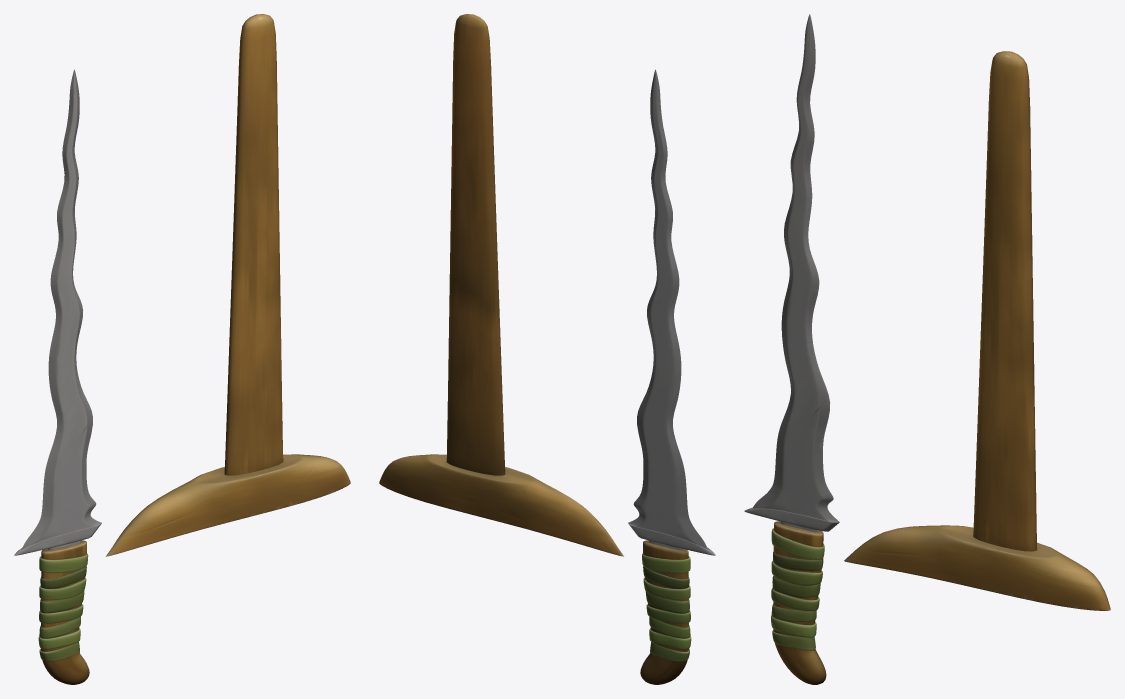
File: keris.glb
The picture shows the model from 3 angles, left to right: view 1: azimuth 30°, elevation 25°; view 2: azimuth 150°, elevation 25°; view 3: azimuth 330°, elevation 25°; orthographic projection. The views are drawn at different scales.
Visible parts, largest first — view 1: sheath, blade, wrap, handle; view 2: sheath, blade, wrap, handle; view 3: sheath, blade, wrap, handle.
Part boxes in pixels (x1,y1,x2,y2): sheath: [106, 14, 350, 556]; blade: [14, 69, 101, 555]; wrap: [38, 553, 88, 661]; handle: [41, 540, 89, 684]; sheath: [379, 14, 623, 556]; blade: [628, 69, 715, 555]; wrap: [642, 553, 691, 661]; handle: [640, 540, 688, 684]; sheath: [844, 51, 1110, 610]; blade: [744, 14, 839, 531]; wrap: [771, 528, 824, 650]; handle: [773, 521, 826, 684].
Bounding box in the file's own units: 2.03 × 3.61 × 0.208.
1 material, 1 textured.
